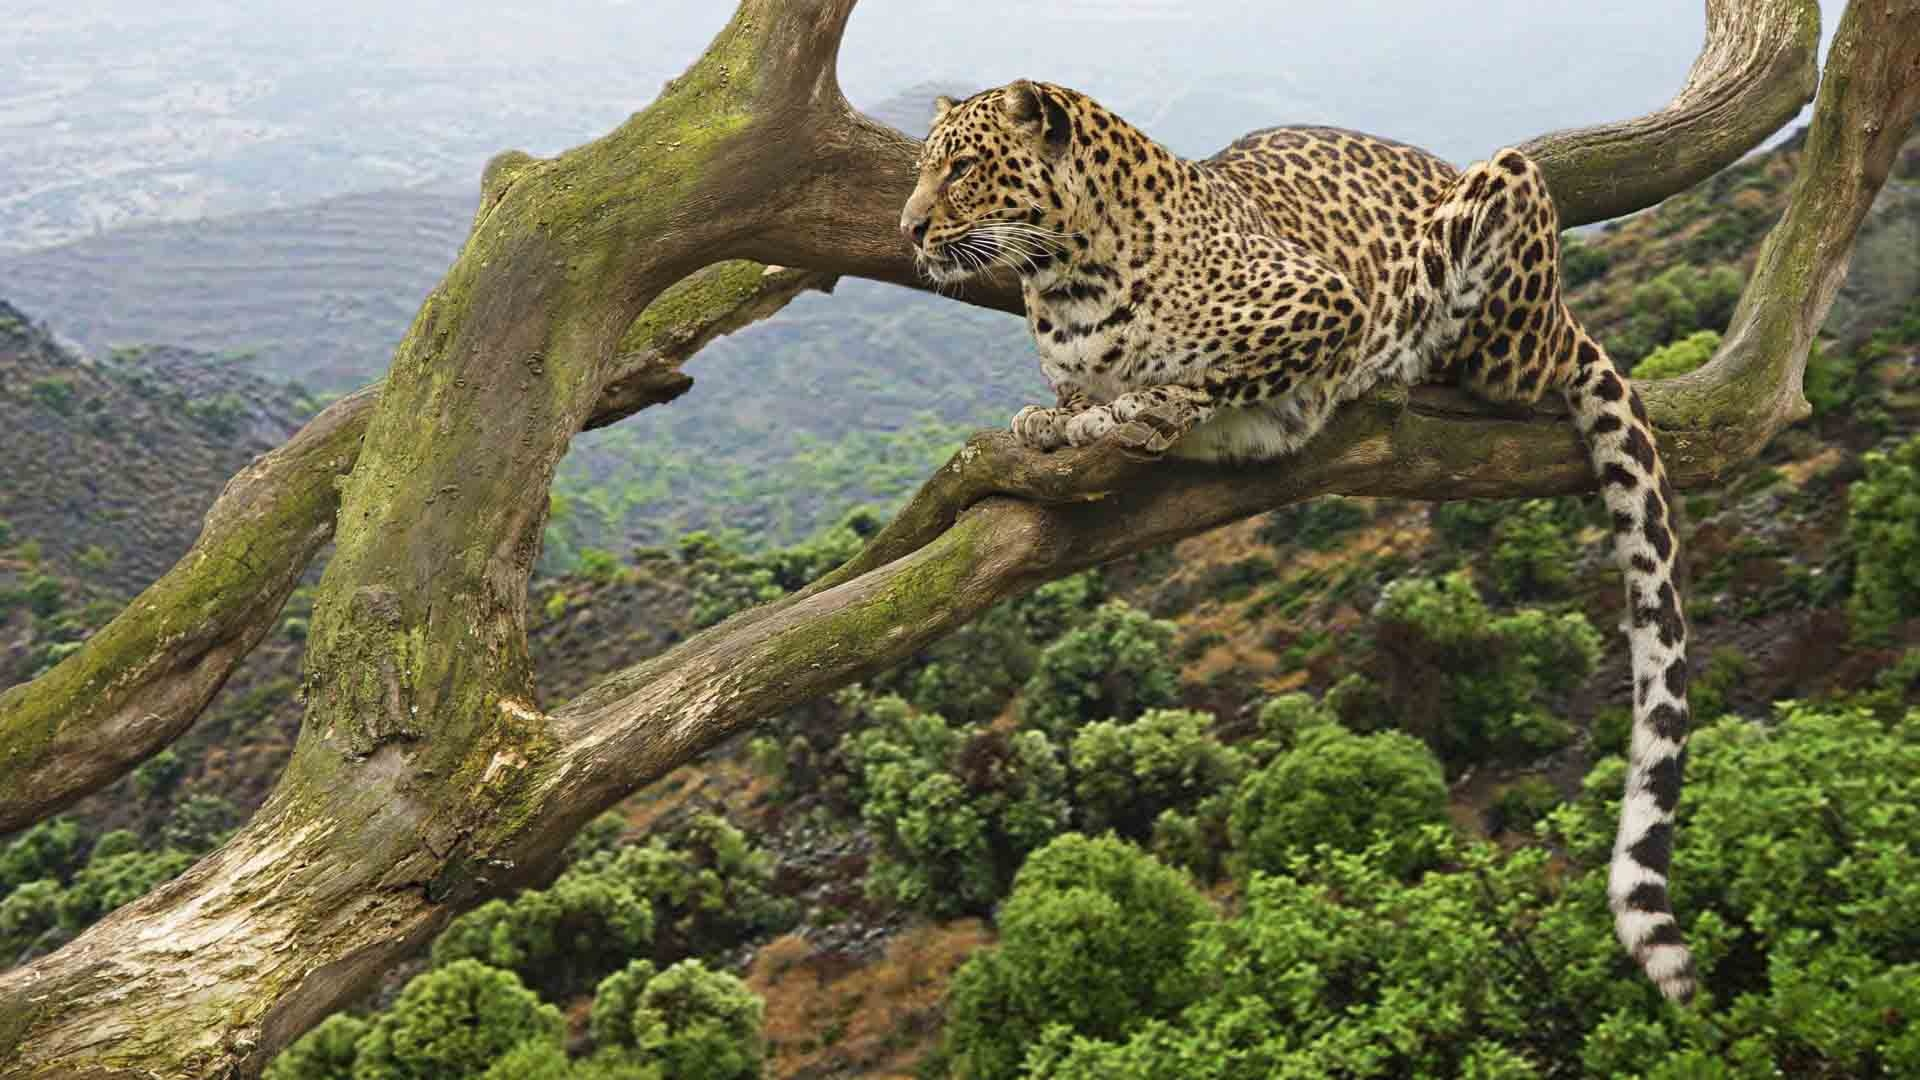leopard: (889, 65, 1716, 1017)
